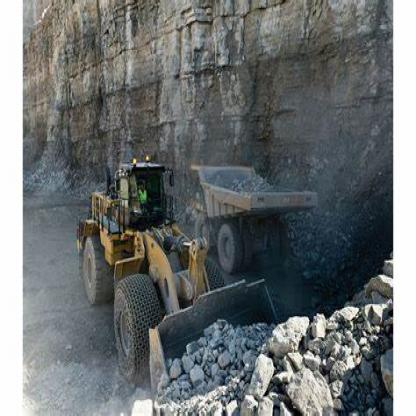bull_dozer/loader/grader: (66, 146, 295, 386)
dump_truck: (188, 158, 317, 271)
